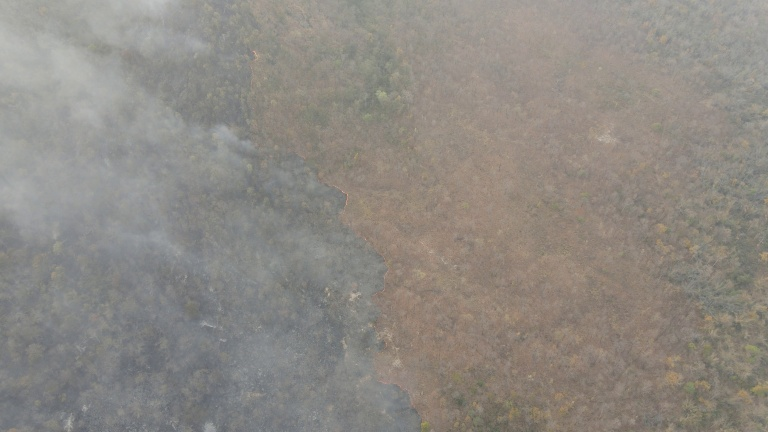smoke: (1, 1, 429, 428)
